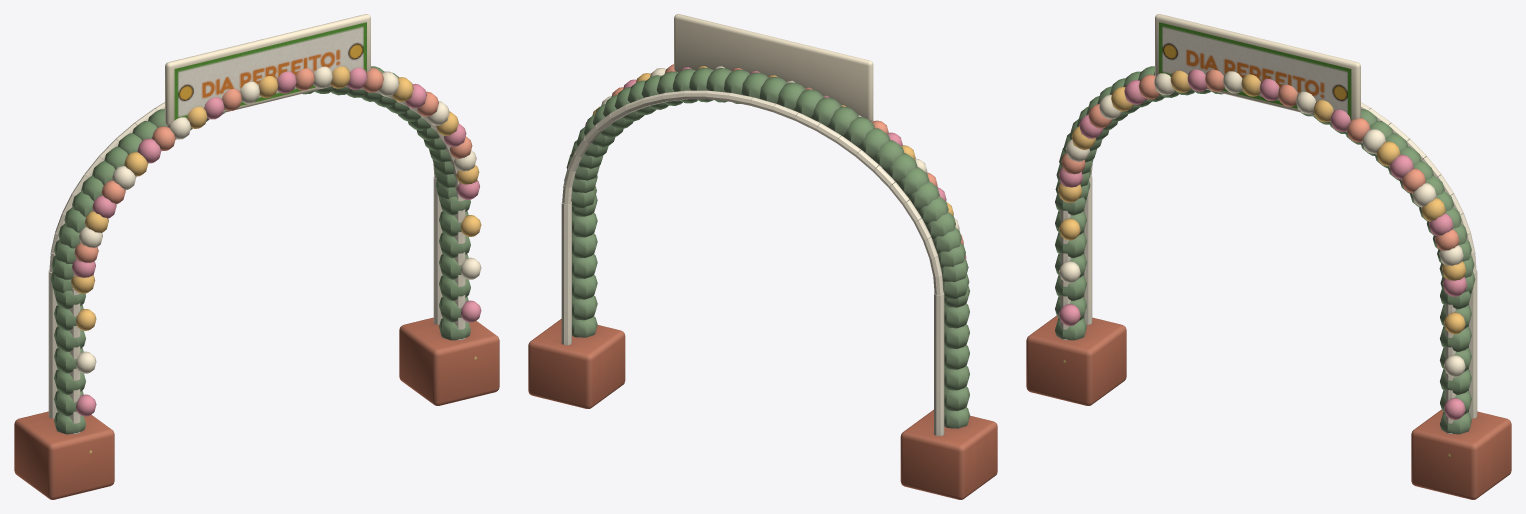
The model's file is FlowerArch.fbx.
The picture shows the model from 3 angles, left to right: view 1: azimuth 30°, elevation 25°; view 2: azimuth 150°, elevation 25°; view 3: azimuth 330°, elevation 25°; orthographic projection. The views are drawn at different scales.
Visible parts, largest first — view 1: FlowerArch; view 2: FlowerArch; view 3: FlowerArch.
Boxes of the visible parts, left/top/right/bottom form: FlowerArch: left=14, top=14, right=499, bottom=499; FlowerArch: left=528, top=14, right=997, bottom=499; FlowerArch: left=1026, top=14, right=1511, bottom=499.
Size of the model in its own units: 375 by 321 by 55.5.
